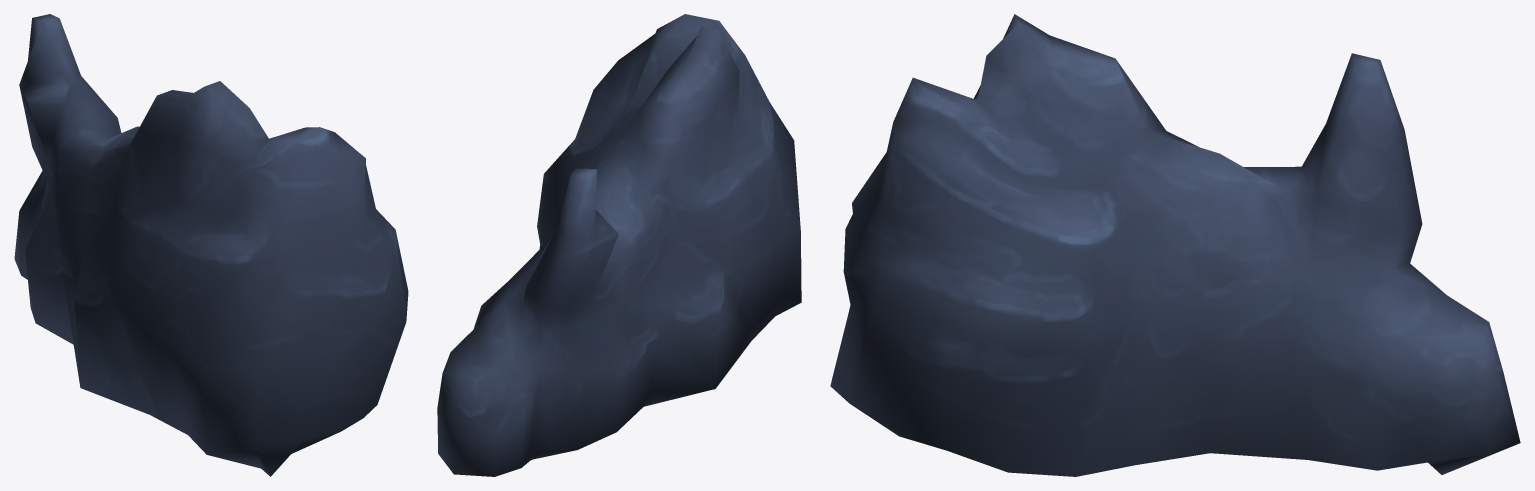
Rendered from lm_rock_03.fbx.
3 renders of one model, left to right at view 1: azimuth 30°, elevation 25°; view 2: azimuth 150°, elevation 25°; view 3: azimuth 270°, elevation 25°, orthographic. The views are drawn at different scales.
Parts seen in each view (by area): view 1: lm_rock_03; view 2: lm_rock_03; view 3: lm_rock_03.
Boxes of the visible parts, x1,y1,x2,y2 form: lm_rock_03: [14, 14, 408, 476]; lm_rock_03: [437, 14, 801, 476]; lm_rock_03: [830, 14, 1520, 476].
Bounding box in the file's own units: 1.1 × 1.63 × 2.44.
